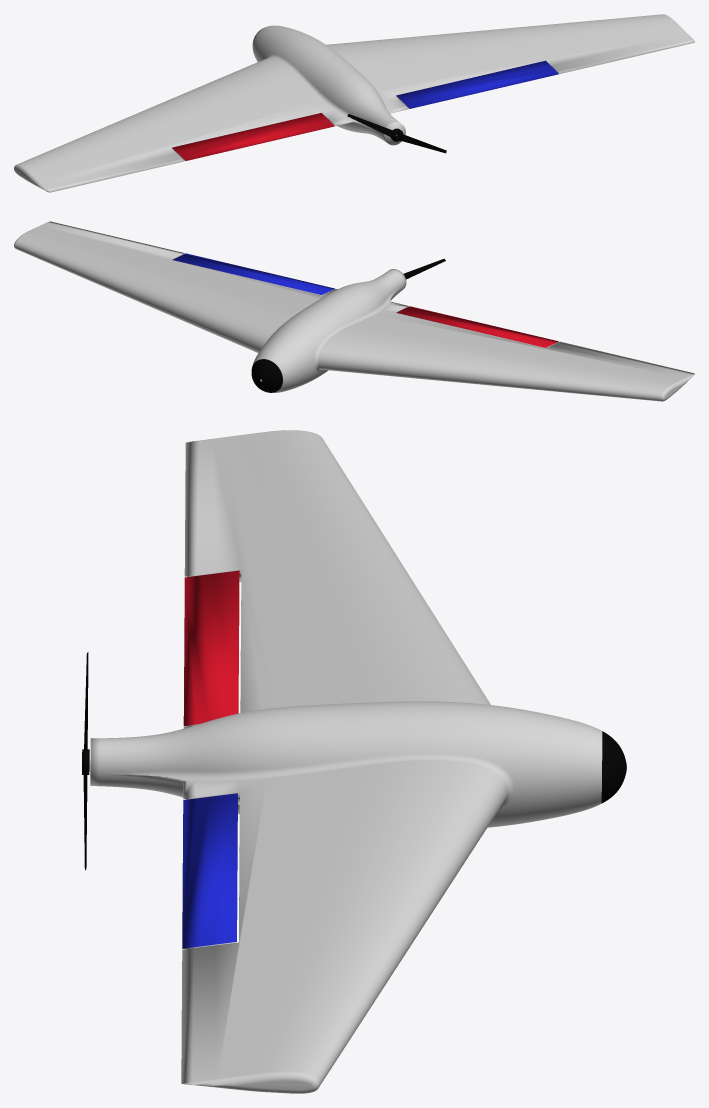
Rendered from flying_wing.gltf.
The picture shows the model from 3 angles, top to bottom: view 1: azimuth 30°, elevation 25°; view 2: azimuth 150°, elevation 25°; view 3: azimuth 270°, elevation 25°; orthographic projection. The views are drawn at different scales.
Bounding box in the file's own units: 10.5 × 0.9774 × 3.81.
